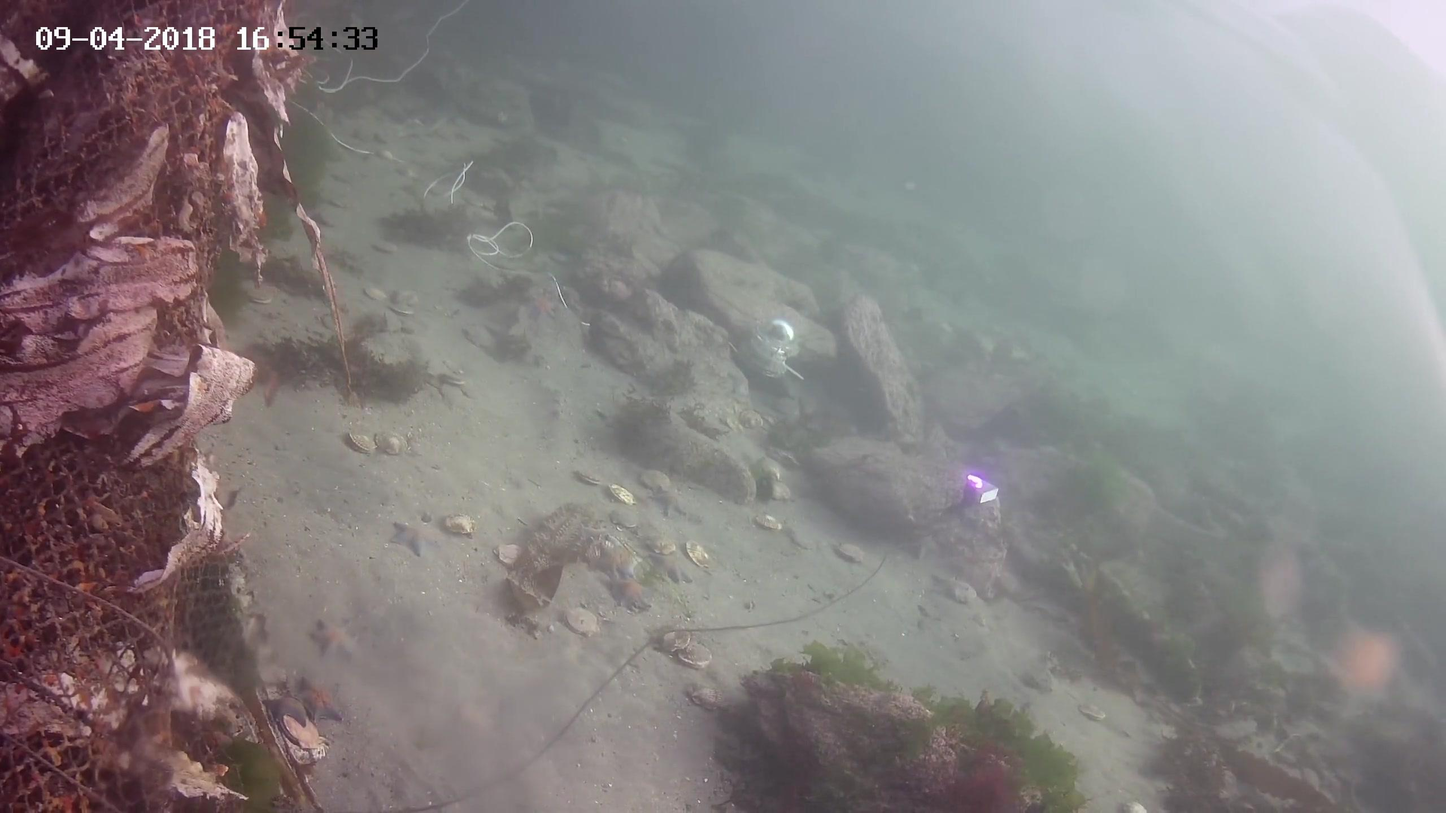holothurian: (1315, 615, 1407, 713), (1257, 547, 1306, 628), (298, 674, 347, 725), (385, 516, 437, 560), (311, 618, 364, 661), (591, 537, 641, 582), (603, 578, 651, 619), (644, 484, 692, 521), (652, 547, 698, 584), (267, 689, 307, 729), (525, 292, 560, 322)
scallop: (686, 675, 729, 711), (563, 605, 607, 640), (672, 642, 714, 674), (461, 320, 503, 352), (493, 538, 531, 572), (1018, 666, 1059, 695), (373, 430, 412, 460), (657, 623, 691, 657), (834, 540, 869, 572), (439, 513, 476, 540), (570, 468, 609, 493), (389, 287, 419, 319), (753, 511, 786, 540), (343, 427, 378, 453), (604, 482, 638, 506), (648, 532, 680, 552), (362, 285, 391, 304)
